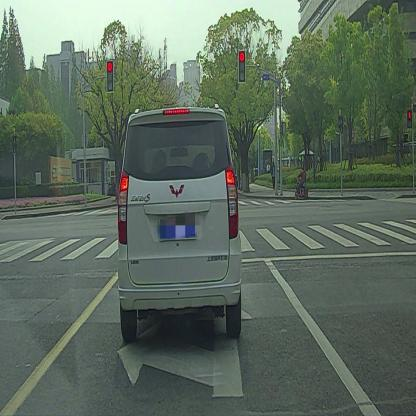Red Light: (105, 57, 116, 95), (238, 49, 246, 85)
